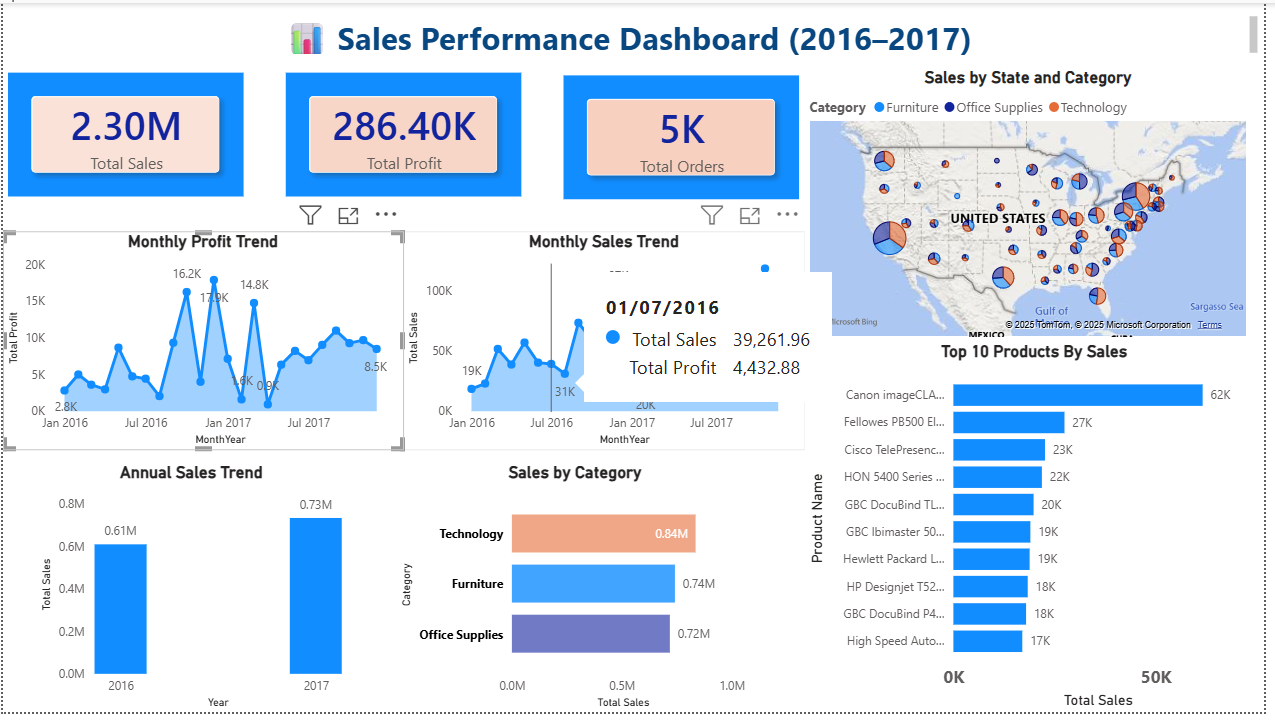

Layout of this report page (visuals, bound fields, positions):
{"tool":"powerbi","page":{"name":"Page 1","canvas":[1280,720],"ordinal":0},"visuals":[{"type":"clusteredColumnChart","title":"Yearly Sales Comparison","fields":{"Category":["DateTable.Year"],"Y":["DateTable.Total Sales"]},"box":[33.5,466.5,315.6,254.2],"z":0},{"type":"lineChart","title":"Monthly Sales Trend","fields":{"Category":["DateTable.MonthYear"],"Y":["DateTable.Total Sales"]},"box":[406.4,231.8,407.8,222.1],"z":1000},{"type":"barChart","title":"Sales by Category","fields":{"Category":["Orders.Category"],"Y":["DateTable.Total Sales"]},"box":[399.4,466.5,363.1,254.2],"z":2000},{"type":"barChart","title":"Top 10 Products By Sales","fields":{"Category":["Orders.Product Name"],"Y":["DateTable.Total Sales"]},"box":[814.2,343.6,453.9,377.1],"z":3000},{"type":"map","title":"Sales by State and Category","fields":{"Category":["Orders.State"],"Series":["Orders.Category"],"Size":["Sum(Orders.Sales)"]},"box":[814.2,65.6,453.9,277.9],"z":4000},{"type":"cardVisual","title":"Total Sales","fields":{"Data":["DateTable.Total Sales"]},"box":[0,65.6,250,136.9],"z":5000},{"type":"cardVisual","title":"Total Profit","fields":{"Data":["DateTable.Total Profit"]},"box":[282.1,65.6,250,136.9],"z":6000},{"type":"cardVisual","title":"Total Orders","fields":{"Data":["DateTable.Total Orders"]},"box":[564.2,68.4,250,136.9],"z":7000},{"type":"lineChart","title":"Monthly Profit Trend","fields":{"Category":["DateTable.MonthYear"],"Y":["DateTable.Total Profit"]},"box":[0,231.8,406.4,222.1],"z":8000},{"type":"textbox","box":[0,8.4,1279.3,57.3],"z":9000}]}

Visuals, with their boxes in screenshot pixels (x1, y1, x2, y2), scaled from the page's 1280x720 canvas onto the 1275x723 screenshot:
"Yearly Sales Comparison" clusteredColumnChart: bbox(33, 468, 348, 722)
"Monthly Sales Trend" lineChart: bbox(405, 233, 811, 456)
"Sales by Category" barChart: bbox(398, 468, 760, 722)
"Top 10 Products By Sales" barChart: bbox(811, 345, 1263, 722)
"Sales by State and Category" map: bbox(811, 66, 1263, 345)
"Total Sales" cardVisual: bbox(0, 66, 249, 203)
"Total Profit" cardVisual: bbox(281, 66, 530, 203)
"Total Orders" cardVisual: bbox(562, 69, 811, 206)
"Monthly Profit Trend" lineChart: bbox(0, 233, 405, 456)
textbox: bbox(0, 8, 1274, 66)
